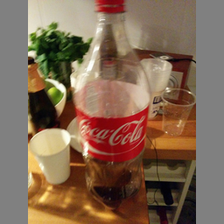soda: (72, 1, 152, 210)
